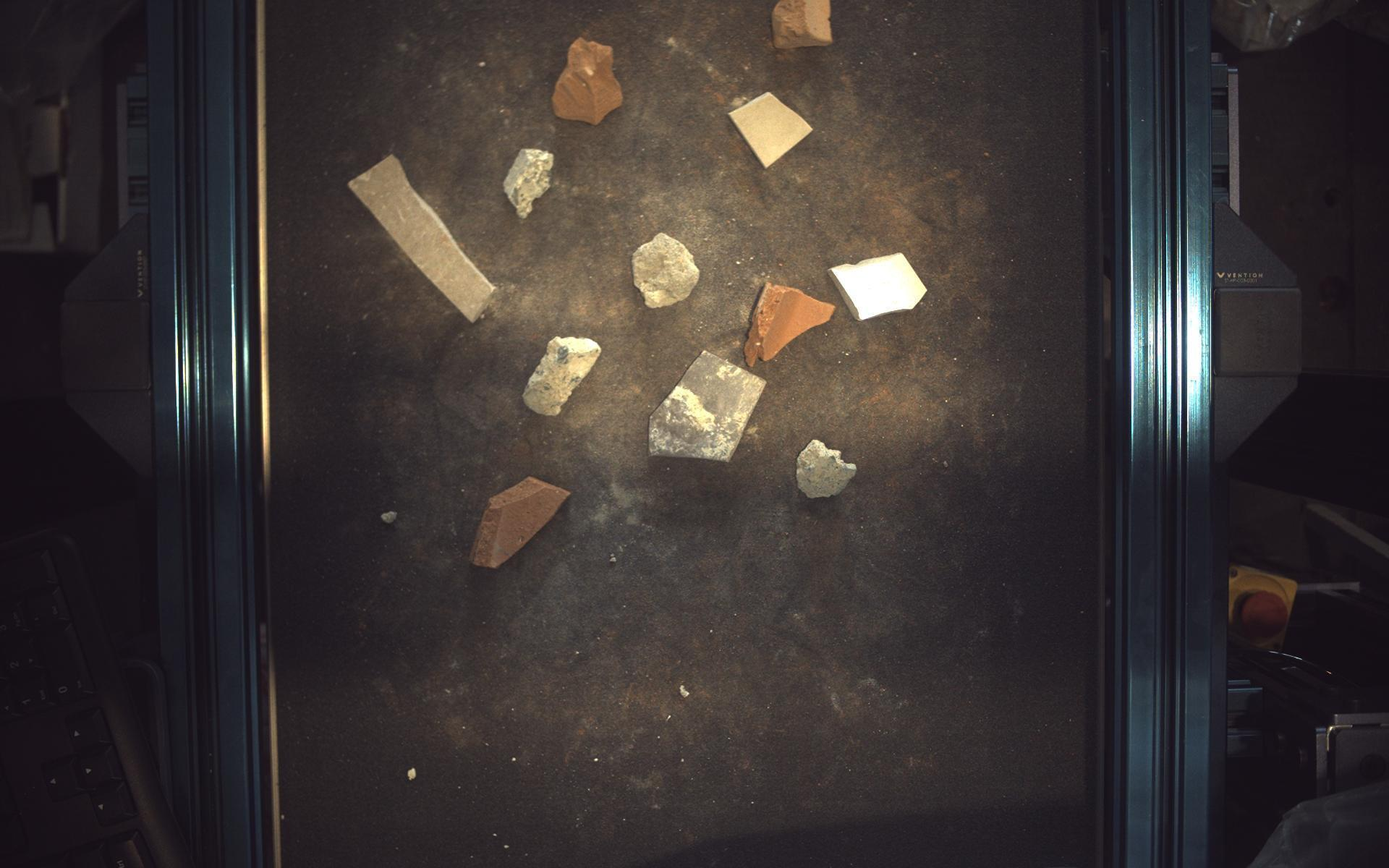brick: (470, 477, 571, 569), (746, 281, 836, 367), (553, 36, 623, 124), (773, 1, 833, 48)
concrete: (523, 336, 601, 416), (633, 232, 700, 308), (504, 148, 555, 218), (797, 440, 858, 498)
tile: (349, 154, 495, 322), (650, 351, 768, 462), (831, 253, 928, 320), (731, 90, 813, 166)
